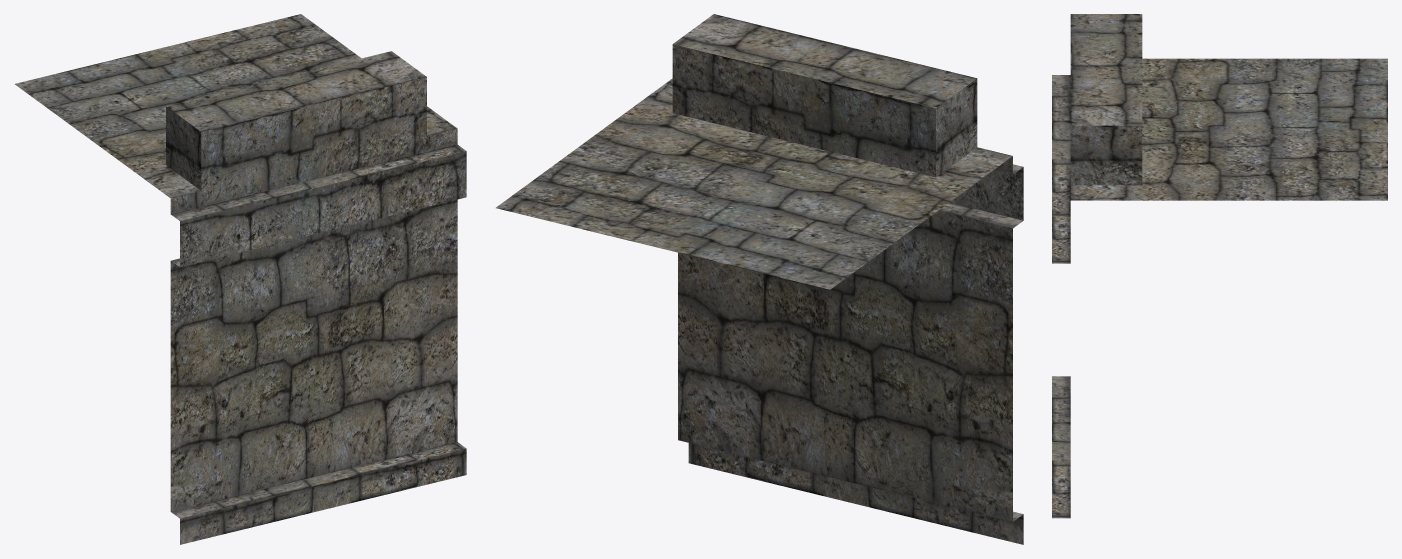
Rendered from Fort_10001111.gltf.
3 views of the same model, side by side, from view 1: azimuth 30°, elevation 25°; view 2: azimuth 150°, elevation 25°; view 3: azimuth 270°, elevation 25° (orthographic). The views are drawn at different scales.
Parts seen in each view (by area): view 1: Claimed_10001111; view 2: Claimed_10001111; view 3: Claimed_10001111.
Boxes of the visible parts, x1,y1,x2,y2 form: Claimed_10001111: [15, 14, 466, 544]; Claimed_10001111: [496, 14, 1023, 544]; Claimed_10001111: [1052, 14, 1387, 518].
Bounding box in the file's own units: 2.5 × 3.32 × 2.5.
1 material, 1 textured.
